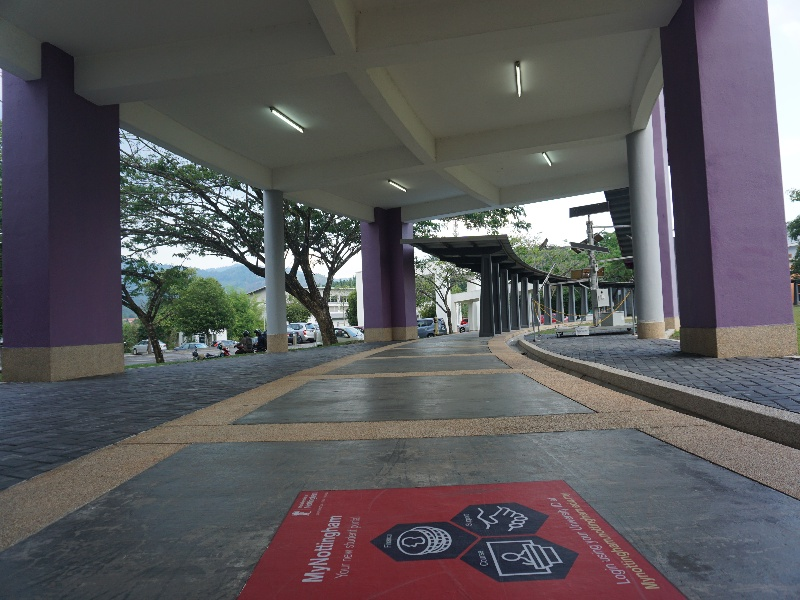Block D Pillar 4: (10, 7, 800, 515)
pillar: (662, 18, 799, 364), (6, 56, 130, 380)
